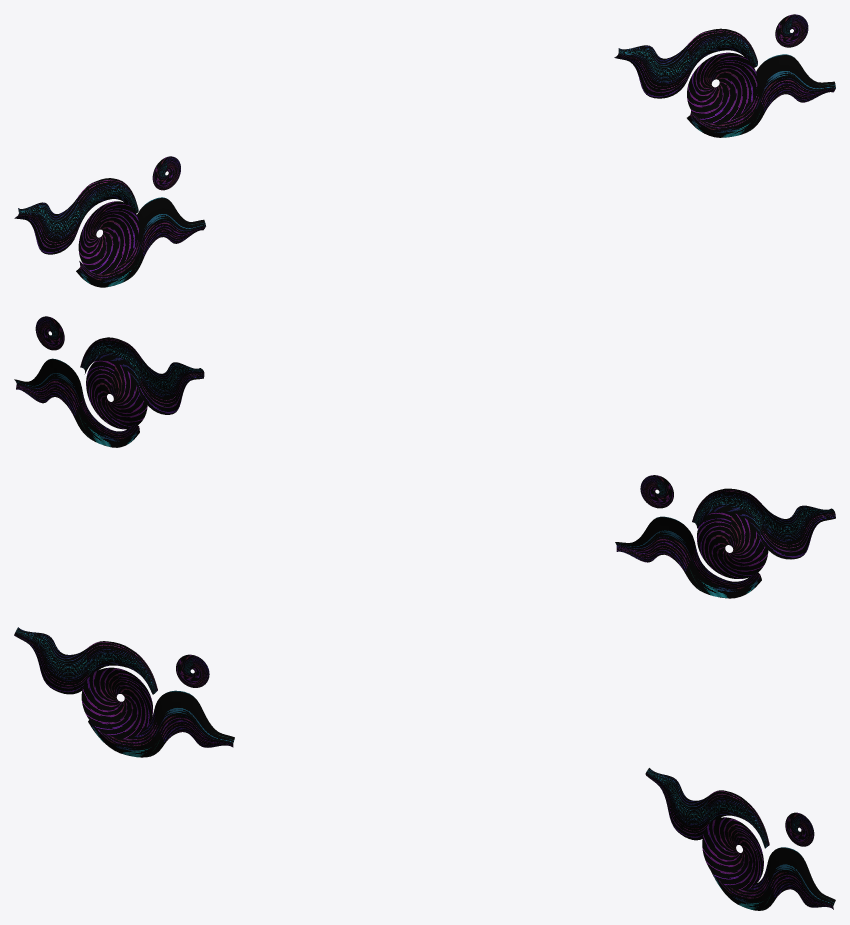
The model's file is VisualEffectMarket.fbx.
3 views of the same model, one above another, from view 1: azimuth 30°, elevation 25°; view 2: azimuth 150°, elevation 25°; view 3: azimuth 330°, elevation 25° (orthographic).
Parts seen in each view (by area): view 1: UVScrollMarket, UVScrollMarket.001; view 2: UVScrollMarket.001, UVScrollMarket; view 3: UVScrollMarket.001, UVScrollMarket.
Part boxes in pixels (bbox=[...]): UVScrollMarket: bbox=[614, 14, 835, 137]; UVScrollMarket.001: bbox=[14, 156, 205, 287]; UVScrollMarket.001: bbox=[615, 475, 835, 598]; UVScrollMarket: bbox=[14, 316, 204, 447]; UVScrollMarket.001: bbox=[14, 627, 234, 757]; UVScrollMarket: bbox=[645, 768, 835, 910].
Bounding box in the file's own units: 1993 × 258 × 76.76.
Materials: 1 (1 with a texture image).
